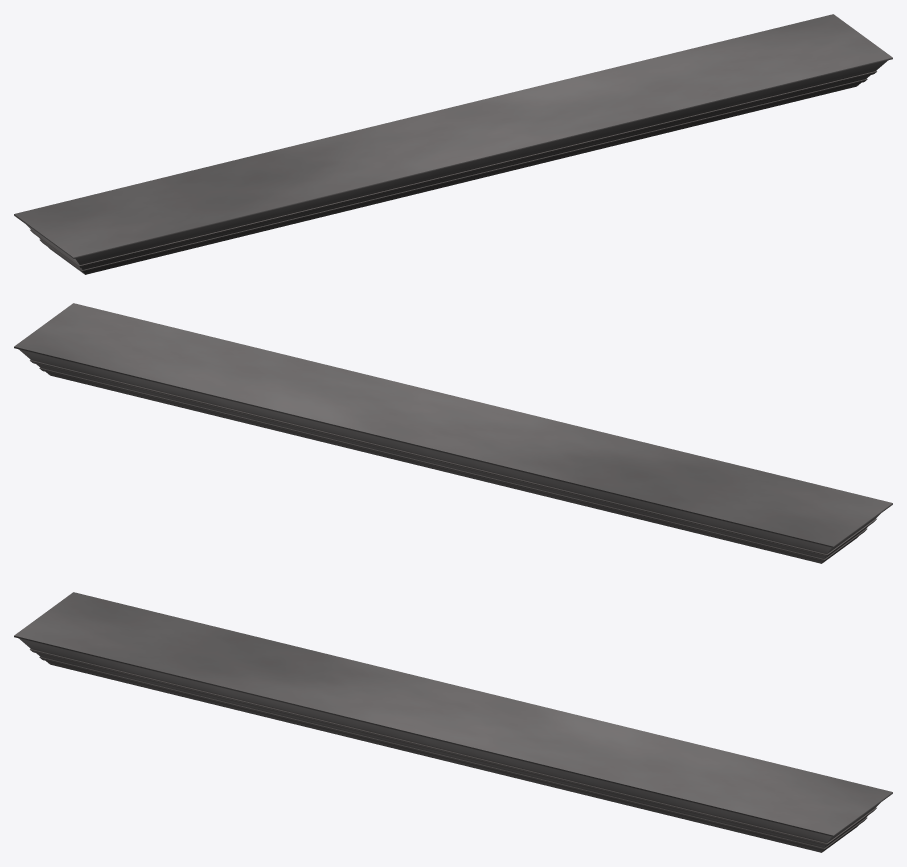
Rendered from Castle_BeamHoriz.fbx.
3 renders of one model, top to bottom at view 1: azimuth 30°, elevation 25°; view 2: azimuth 150°, elevation 25°; view 3: azimuth 330°, elevation 25°, orthographic.
Parts seen in each view (by area): view 1: supportbeamV9:pCube1; view 2: supportbeamV9:pCube1; view 3: supportbeamV9:pCube1.
Boxes of the visible parts, x1,y1,x2,y2 form: supportbeamV9:pCube1: (14, 14, 892, 274); supportbeamV9:pCube1: (14, 303, 892, 563); supportbeamV9:pCube1: (14, 592, 892, 852).
Size of the model in its own units: 357 by 13.37 by 44.86.
